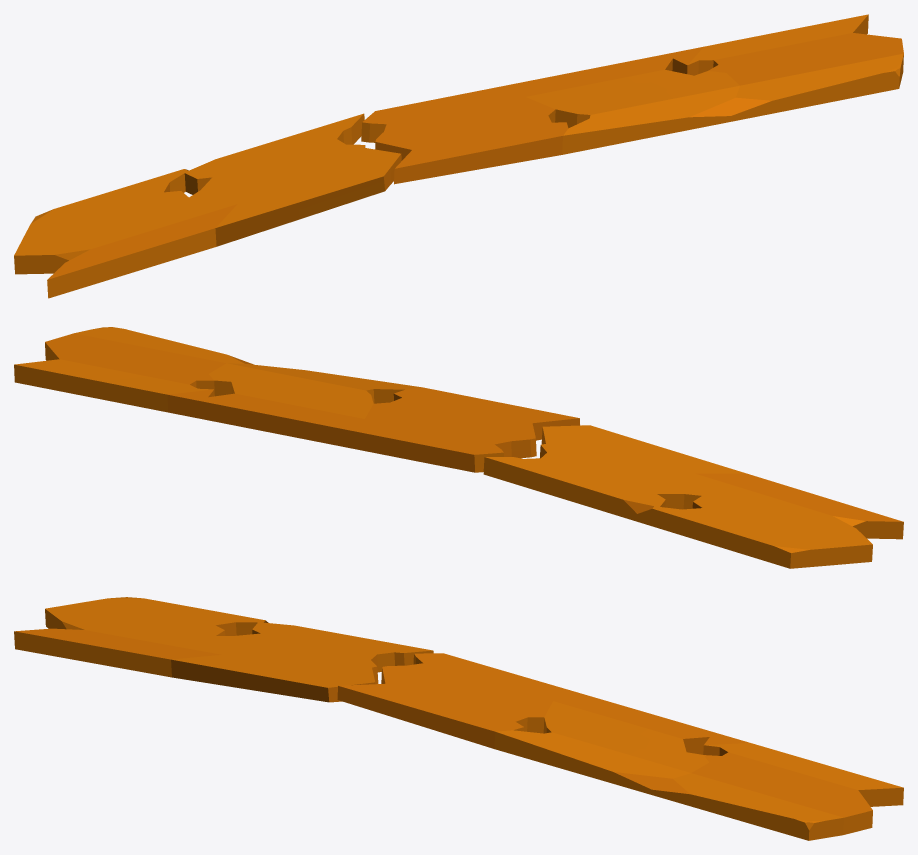
Rendered from Rotten and broken wood_10.fbx.
3 views of the same model, one above another, from view 1: azimuth 30°, elevation 25°; view 2: azimuth 150°, elevation 25°; view 3: azimuth 330°, elevation 25° (orthographic). The views are drawn at different scales.
Visible parts, largest first — view 1: Cube.089, Cube.093; view 2: Cube.089, Cube.093; view 3: Cube.089, Cube.093.
Boxes of the visible parts, x1,y1,x2,y2 form: Cube.089: [361, 14, 903, 184]; Cube.093: [14, 113, 401, 298]; Cube.089: [14, 327, 580, 472]; Cube.093: [483, 425, 903, 568]; Cube.089: [337, 653, 903, 840]; Cube.093: [14, 597, 433, 702].
Bounding box in the file's own units: 101 × 4.93 × 13.07.
